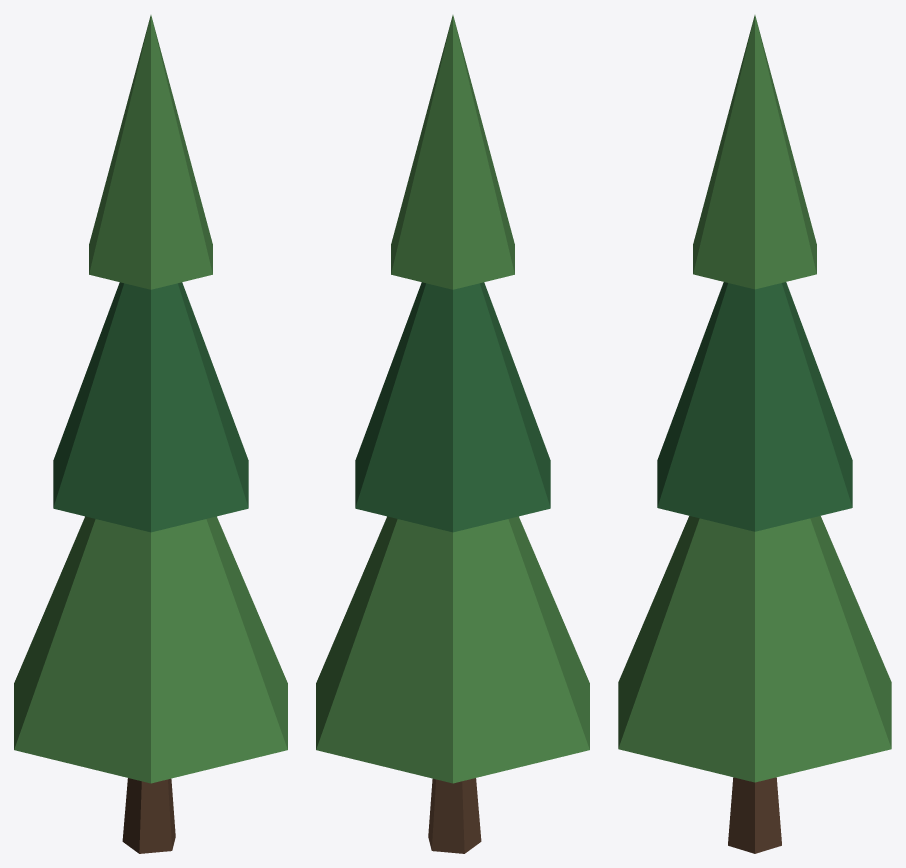
File: tree_pine_b_lod.glb
3 renders of one model, left to right at view 1: azimuth 30°, elevation 25°; view 2: azimuth 150°, elevation 25°; view 3: azimuth 270°, elevation 25°, orthographic.
Visible parts, largest first — view 1: Body; view 2: Body; view 3: Body.
Part boxes in pixels (<box>): Body: <box>14,15,287,853</box>; Body: <box>316,15,589,853</box>; Body: <box>618,15,891,853</box>.
Size of the model in its own units: 4.2 by 12.15 by 3.64.
